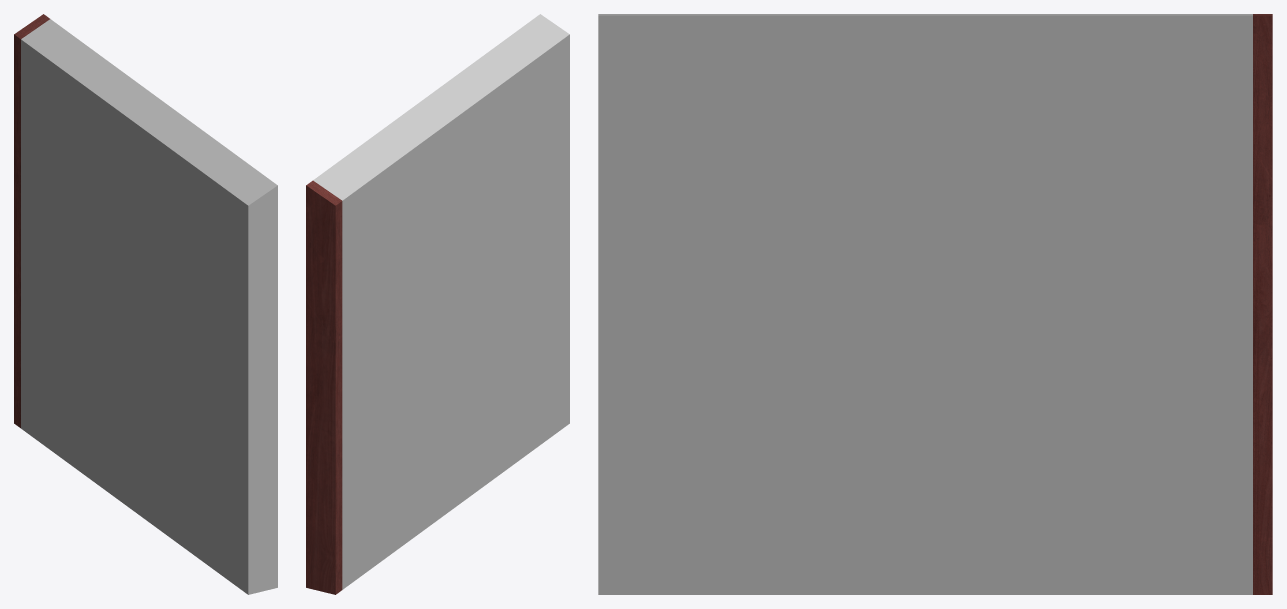
Rendered from SM_StoneWall01B.fbx.
The picture shows the model from 3 angles, left to right: view 1: azimuth 30°, elevation 25°; view 2: azimuth 150°, elevation 25°; view 3: azimuth 270°, elevation 25°; orthographic projection. The views are drawn at different scales.
Parts seen in each view (by area): view 1: SM_StoneWall01B; view 2: SM_StoneWall01B; view 3: SM_StoneWall01B.
Boxes of the visible parts, x1=… form: SM_StoneWall01B: x1=14, y1=14, x2=277, y2=594; SM_StoneWall01B: x1=306, y1=14, x2=569, y2=594; SM_StoneWall01B: x1=598, y1=14, x2=1272, y2=594.
Bounding box in the file's own units: 17.02 × 234 × 222.
